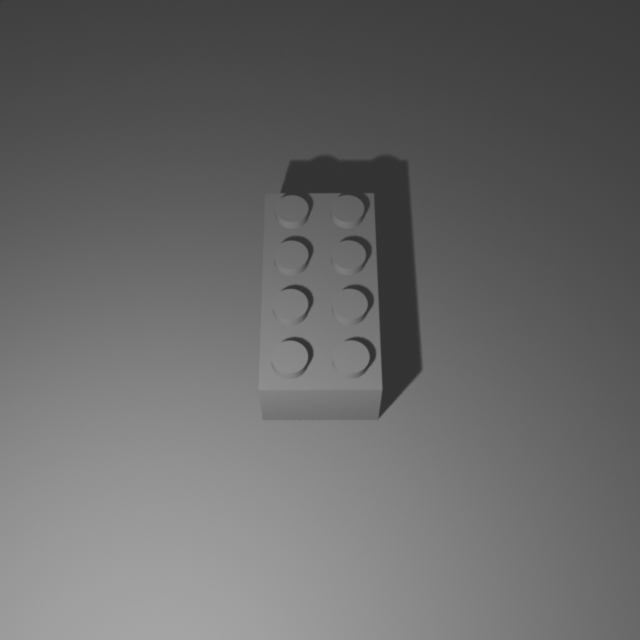lego_2x4: (258, 186, 383, 420)
